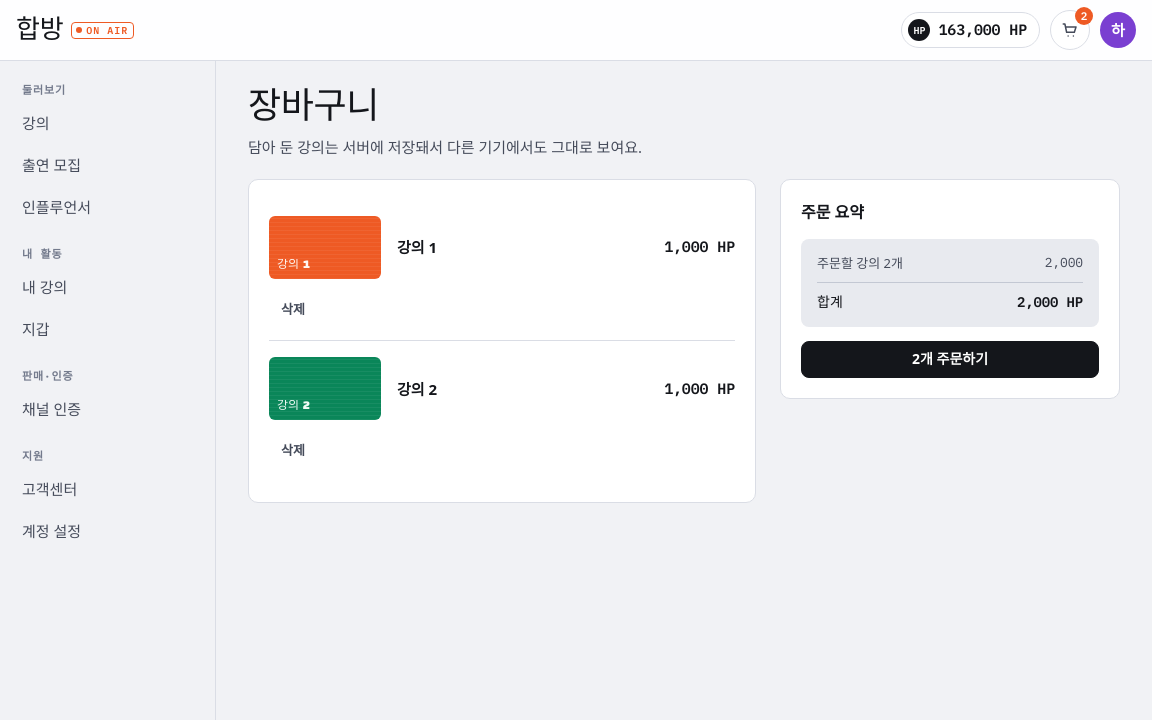
상단 헤더 장바구니 › 장바구니에서 빼면 헤더 배지가 줄어든다
Expected: the link named "장바구니 2개" is shown, x1=1050 y1=10 x2=1090 y2=50
Click the button with aria-label "강의 1 장바구니에서 빼기" at (293, 309), box x1=269 y1=295 x2=317 y2=324
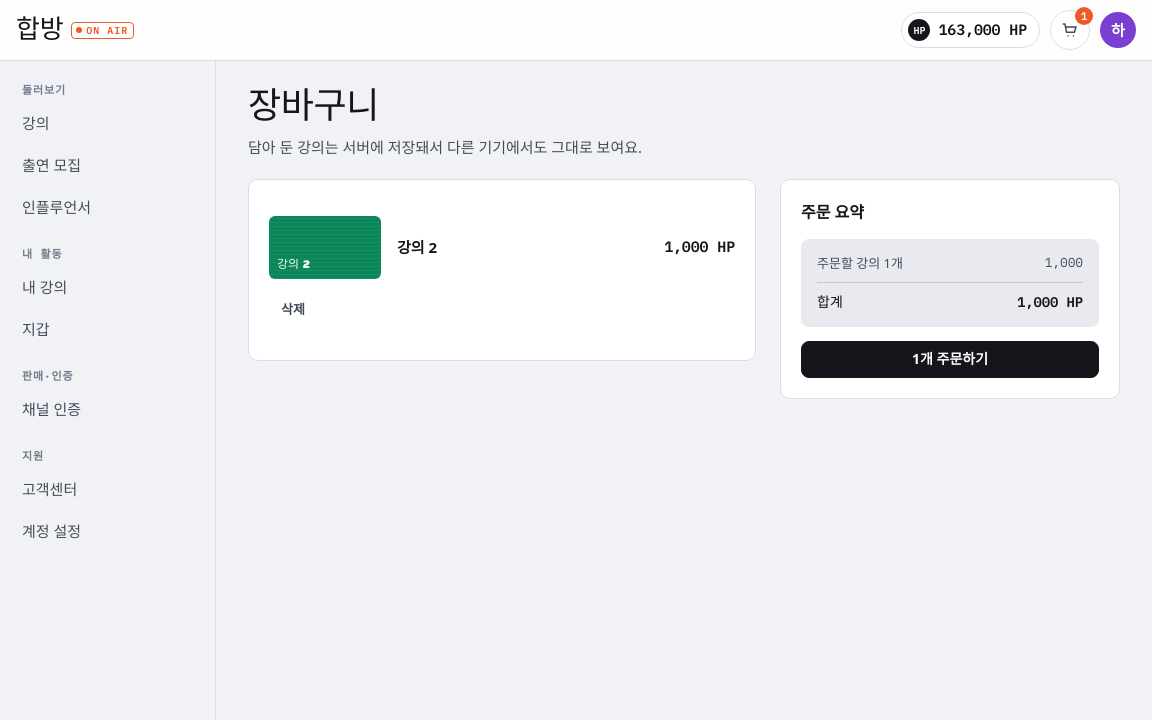
Result: the link named "장바구니 1개" is shown at x1=1050 y1=10 x2=1090 y2=50
